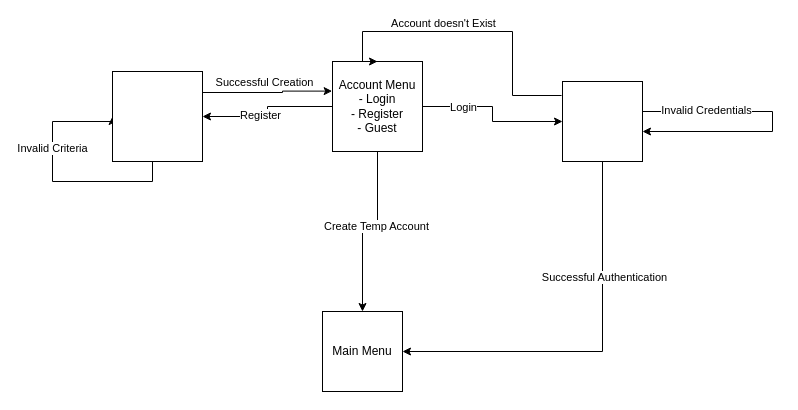
This 798x410 diagram has some shape labels left out. The centre of each missing label's shape, as x and y in pixels:
"Login - Enter Name - Enter Password - Login Button" belongs at (602,121).
"Register Account - Name - Password - Confirm Password" belongs at (157,116).
